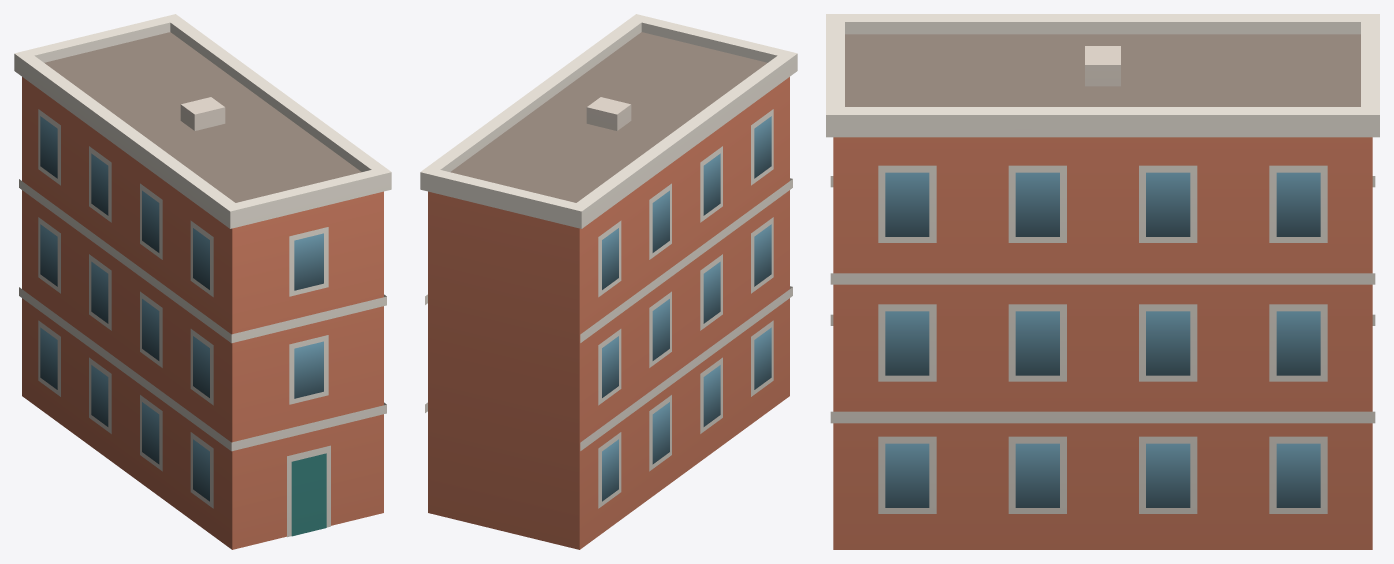
File: beacon_n15_far.glb
3 views of the same model, side by side, from view 1: azimuth 30°, elevation 25°; view 2: azimuth 150°, elevation 25°; view 3: azimuth 270°, elevation 25° (orthographic). The views are drawn at different scales.
Parts seen in each view (by area): view 1: beacon_n15_far; view 2: beacon_n15_far; view 3: beacon_n15_far.
Part boxes in pixels (x1,y1,x2,y2): beacon_n15_far: (14,14,391,549); beacon_n15_far: (420,14,797,549); beacon_n15_far: (826,14,1379,549).
Size of the model in its own units: 5.32 by 10.97 by 12.32.
Materials: 1 (1 with a texture image).
